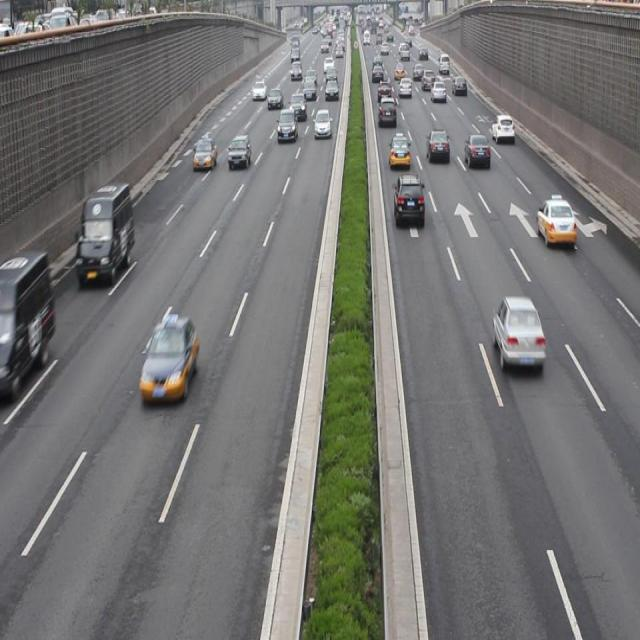car: (138, 318, 198, 402), (492, 296, 544, 368), (534, 196, 574, 248), (393, 174, 424, 225), (464, 132, 489, 169), (193, 135, 218, 170), (426, 127, 449, 165), (388, 133, 411, 169), (228, 134, 252, 168), (276, 108, 298, 142), (490, 113, 515, 142), (313, 107, 330, 138)
truck: (0, 250, 54, 390), (75, 182, 134, 281), (378, 96, 397, 128)
